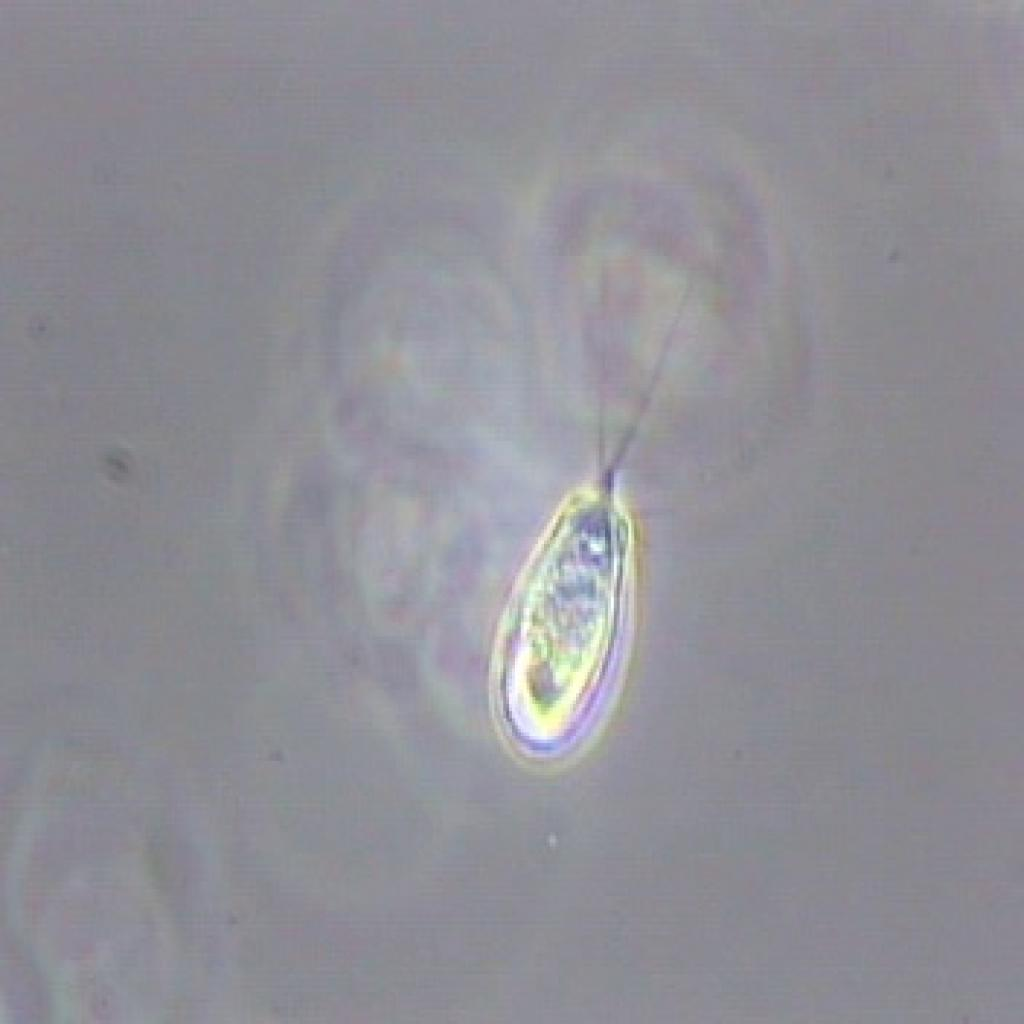Euglypha: (450, 377, 700, 779)
